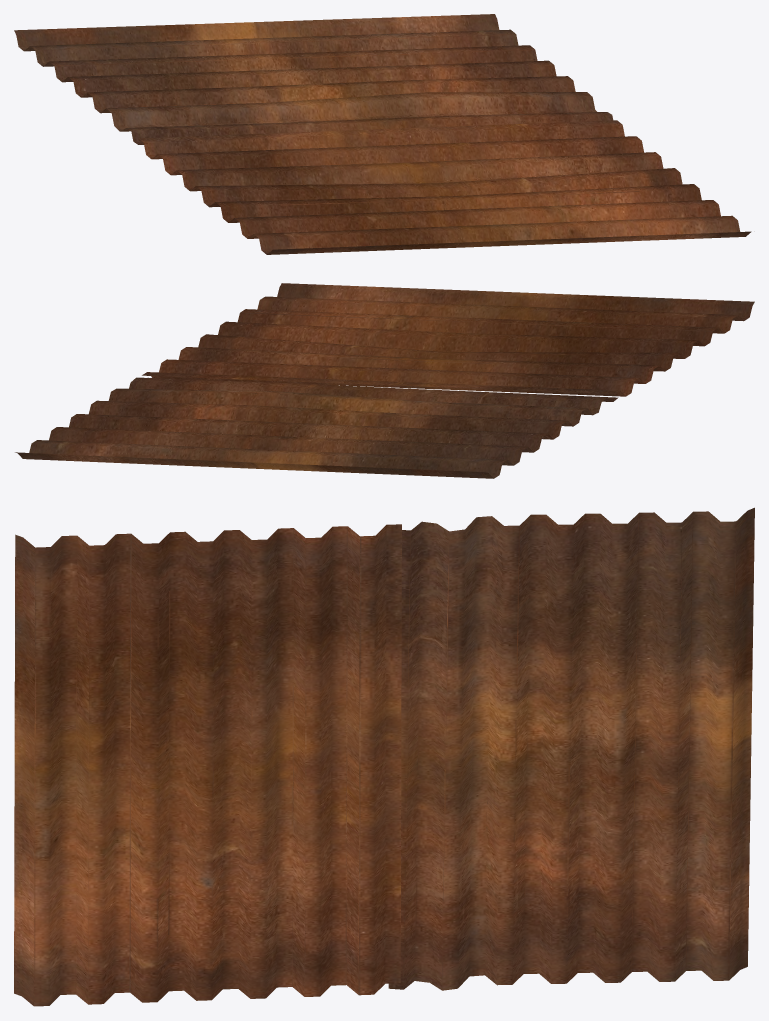
The picture shows the model from 3 angles, top to bottom: view 1: azimuth 30°, elevation 25°; view 2: azimuth 150°, elevation 25°; view 3: azimuth 270°, elevation 25°; orthographic projection. The views are drawn at different scales.
Visible parts, largest first — view 1: E_R_2; view 2: E_R_2; view 3: E_R_2.
Part boxes in pixels (x1,y1,x2,y2): E_R_2: (14, 14, 751, 254); E_R_2: (15, 283, 754, 478); E_R_2: (14, 507, 754, 1006).
Size of the model in its own units: 320 by 82.3 by 305.
1 material, 1 textured.
